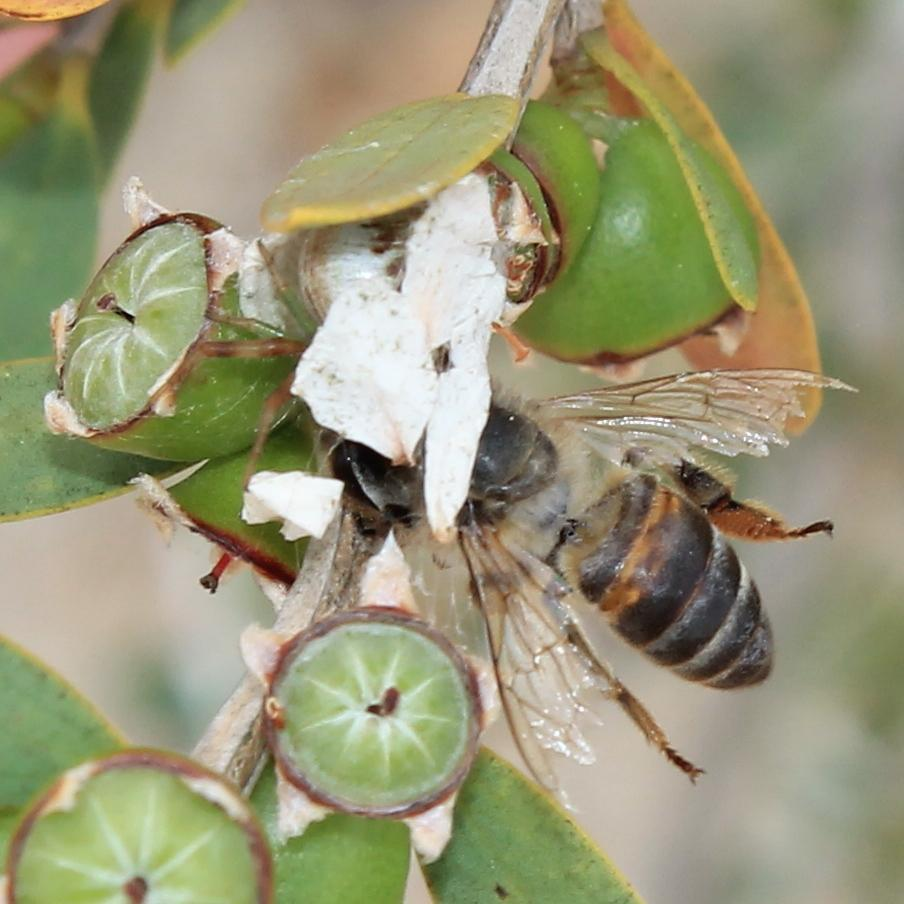not_bumblebee: (437, 369, 861, 816)
